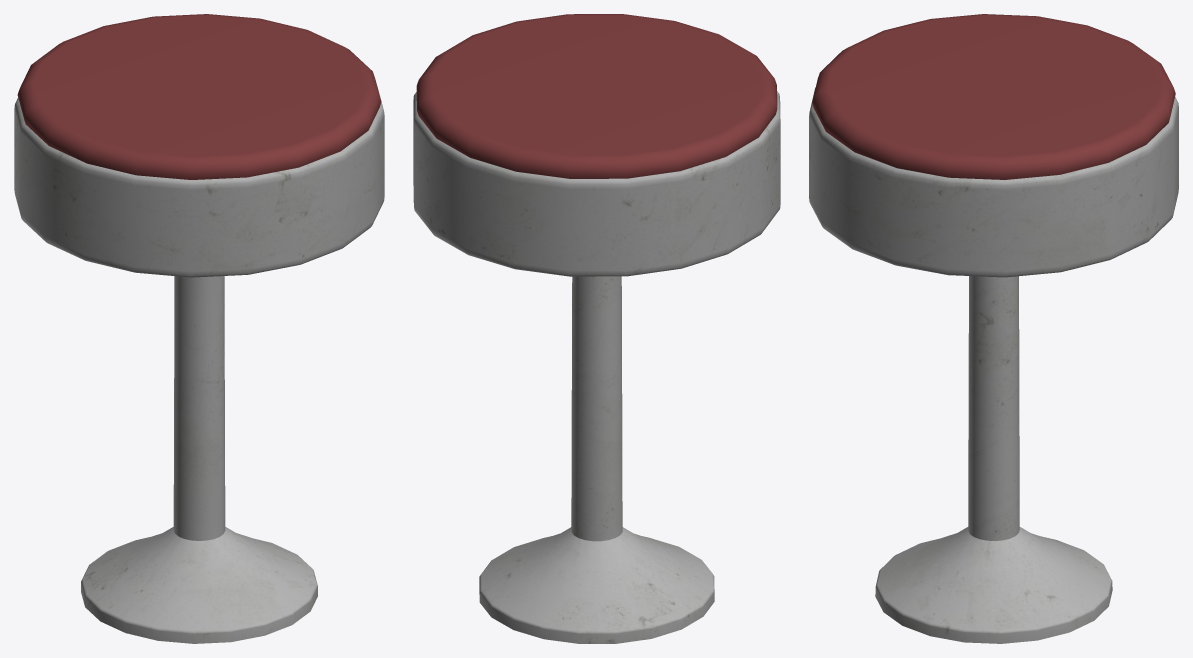
3 views of the same model, side by side, from view 1: azimuth 30°, elevation 25°; view 2: azimuth 150°, elevation 25°; view 3: azimuth 270°, elevation 25° (orthographic).
Visible parts, largest first — view 1: Stool_low; view 2: Stool_low; view 3: Stool_low.
Boxes of the visible parts, x1,y1,x2,y2 form: Stool_low: [14, 14, 384, 643]; Stool_low: [413, 14, 780, 643]; Stool_low: [809, 14, 1178, 643].
Bounding box in the file's own units: 39.84 × 60.37 × 39.84.
Materials: 1 (1 with a texture image).
